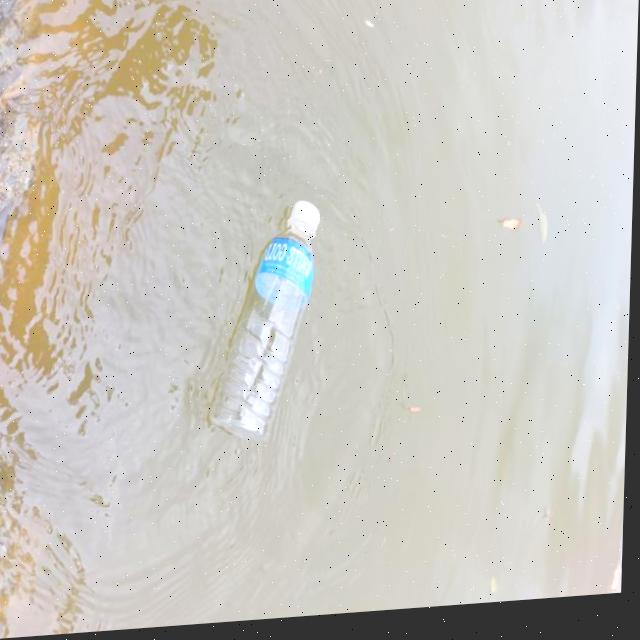waterbottle: (167, 192, 346, 470)
